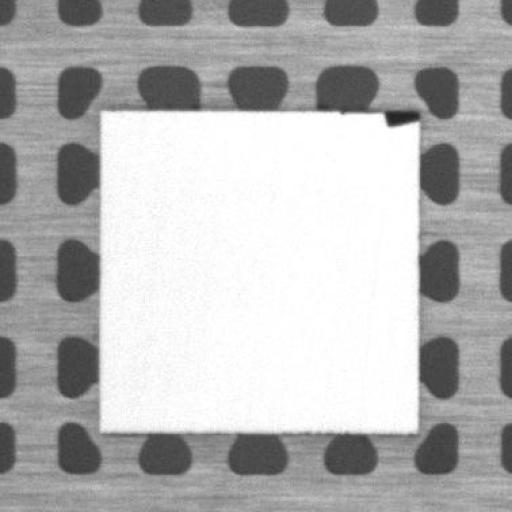DIE_BROKEN: (380, 106, 422, 128)
